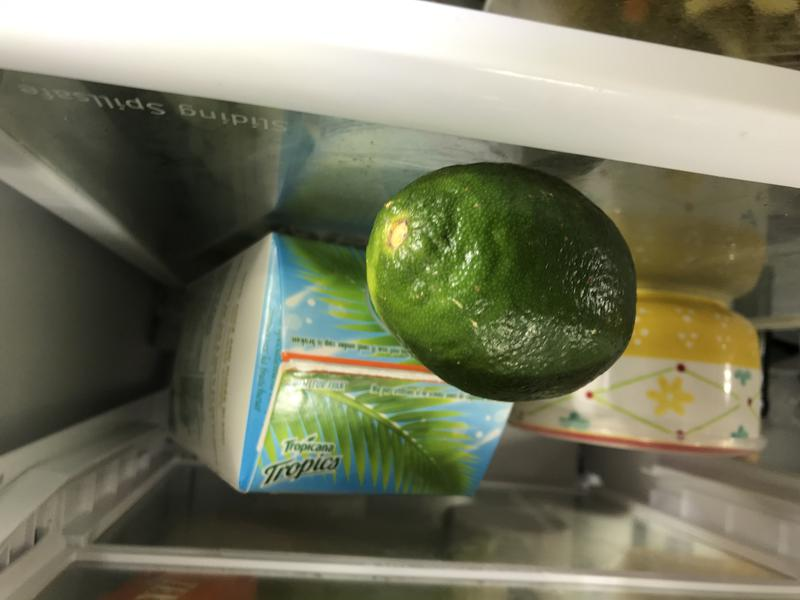lime: (356, 153, 647, 403)
